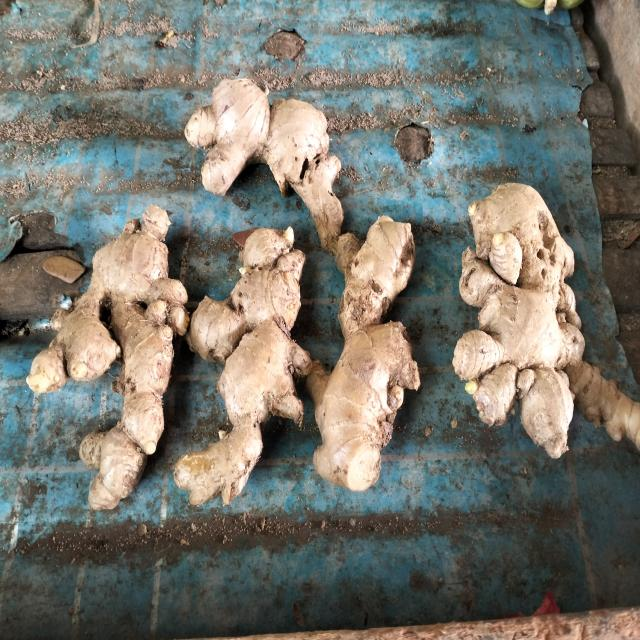ginger: (448, 180, 640, 490), (25, 201, 183, 522), (192, 215, 316, 519), (180, 44, 354, 236), (328, 213, 423, 508)
